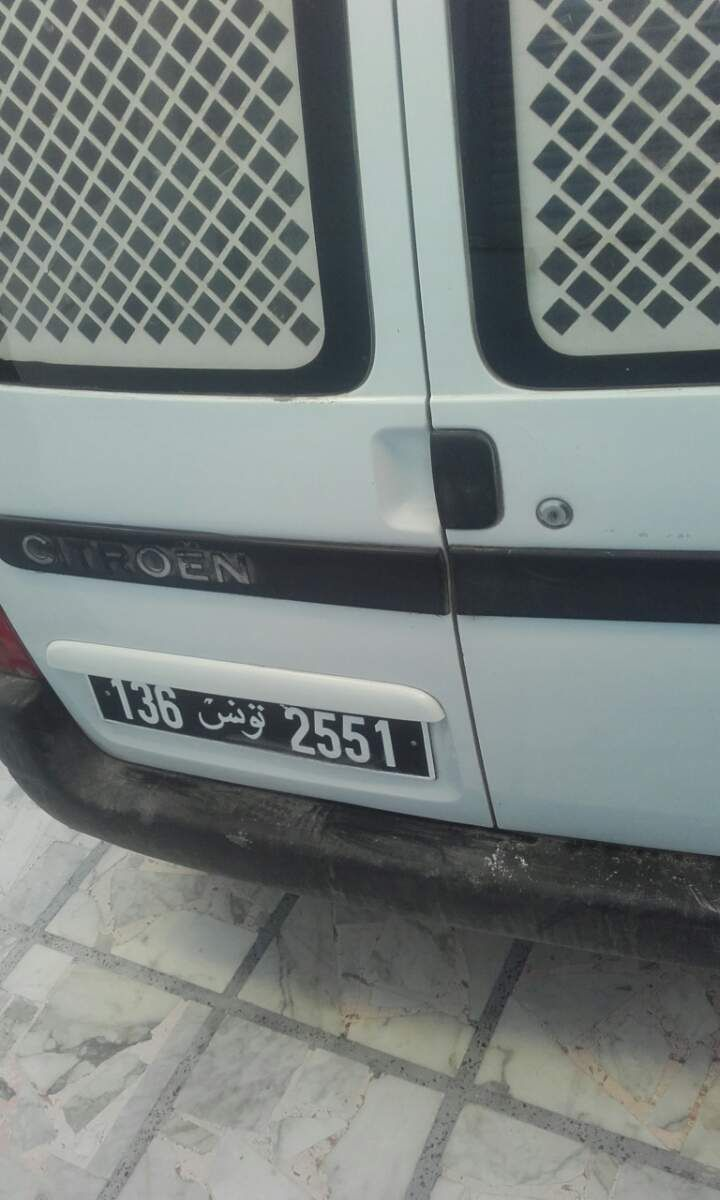LP: (85, 668, 433, 778)
